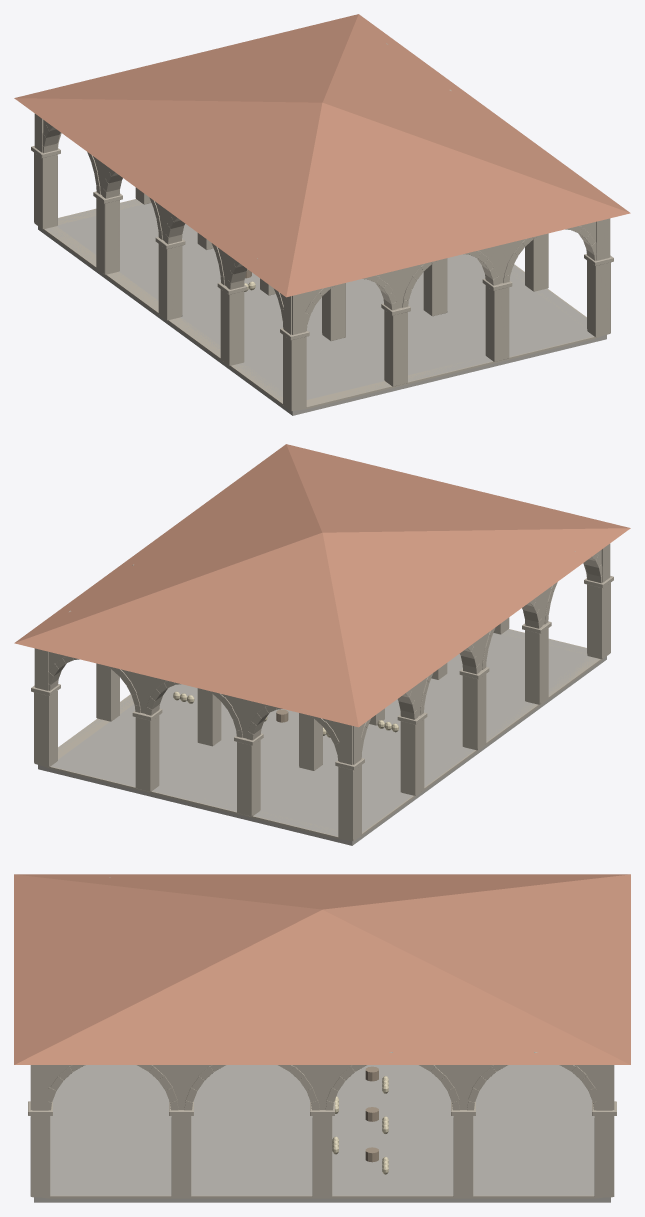
Rendered from loggia_grano.glb.
3 renders of one model, top to bottom at view 1: azimuth 30°, elevation 25°; view 2: azimuth 150°, elevation 25°; view 3: azimuth 270°, elevation 25°, orthographic. The views are drawn at different scales.
Visible parts, largest first — view 1: loggia_grano; view 2: loggia_grano; view 3: loggia_grano.
Boxes of the visible parts, box(x1,y1,x2,y2) form: loggia_grano: box(14, 14, 630, 415); loggia_grano: box(14, 444, 630, 845); loggia_grano: box(14, 874, 630, 1202).
Size of the model in its own units: 27.2 by 13.7 by 37.2.
